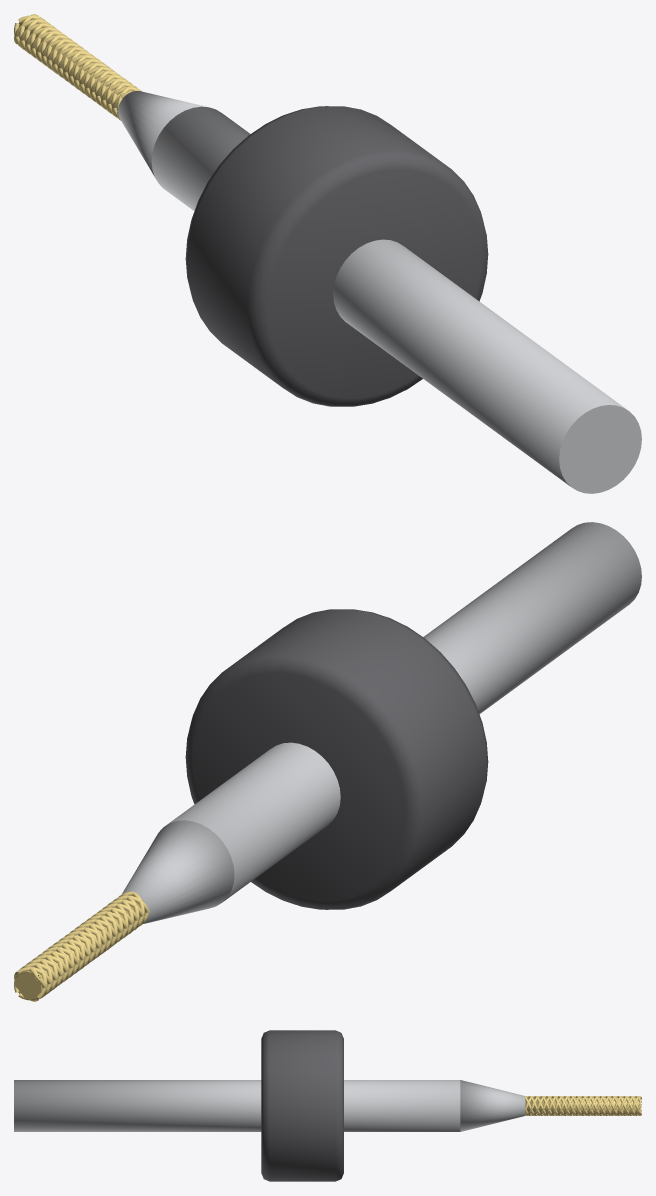
The model's file is corn18_1p2.glb.
3 renders of one model, top to bottom at view 1: azimuth 30°, elevation 25°; view 2: azimuth 150°, elevation 25°; view 3: azimuth 270°, elevation 25°, orthographic. The views are drawn at different scales.
Parts seen in each view (by area): view 1: Cylinder.002, Cylinder.001, Cone, flute.001, flute.006, flute.007, flute, flute.002, flute.003, flute.004, flute.005; view 2: Cylinder.002, Cylinder.001, Cone, Cylinder, flute, flute.007, flute.005, flute.001, flute.006, flute.002, flute.003, flute.004; view 3: Cylinder.001, Cylinder.002, Cone, Cylinder, flute.005, flute.006, flute.004, flute.003, flute.007, flute, flute.002, flute.001.
Part boxes in pixels (left/top/right/bottom): Cylinder.002: left=185, top=106, right=488, bottom=406; Cylinder.001: left=151, top=106, right=641, bottom=493; Cone: left=118, top=91, right=208, bottom=176; flute.001: left=19, top=14, right=125, bottom=117; flute.006: left=14, top=19, right=137, bottom=108; flute.007: left=25, top=18, right=131, bottom=120; flute: left=19, top=23, right=139, bottom=112; flute.002: left=25, top=17, right=133, bottom=116; flute.003: left=14, top=23, right=141, bottom=113; flute.004: left=18, top=15, right=132, bottom=120; flute.005: left=18, top=22, right=136, bottom=110; Cylinder.002: left=185, top=609, right=488, bottom=909; Cylinder.001: left=166, top=522, right=641, bottom=901; Cone: left=121, top=820, right=234, bottom=923; Cylinder: left=15, top=895, right=145, bottom=999; flute: left=18, top=894, right=139, bottom=1000; flute.007: left=14, top=899, right=144, bottom=992; flute.005: left=26, top=895, right=149, bottom=1001; flute.001: left=18, top=903, right=139, bottom=992; flute.006: left=27, top=898, right=133, bottom=998; flute.002: left=14, top=892, right=144, bottom=993; flute.003: left=31, top=891, right=133, bottom=996; flute.004: left=22, top=902, right=149, bottom=989; Cylinder.001: left=14, top=1080, right=460, bottom=1131; Cylinder.002: left=261, top=1030, right=343, bottom=1181; Cone: left=460, top=1080, right=525, bottom=1131; Cylinder: left=525, top=1097, right=640, bottom=1114; flute.005: left=528, top=1096, right=641, bottom=1115; flute.006: left=525, top=1096, right=641, bottom=1115; flute.004: left=531, top=1096, right=641, bottom=1115; flute.003: left=525, top=1096, right=641, bottom=1115; flute.007: left=534, top=1096, right=641, bottom=1115; flute: left=525, top=1096, right=641, bottom=1115; flute.002: left=525, top=1096, right=641, bottom=1115; flute.001: left=525, top=1096, right=641, bottom=1115.
Bounding box in the file's own units: 0.00917 × 0.00917 × 0.0381.
